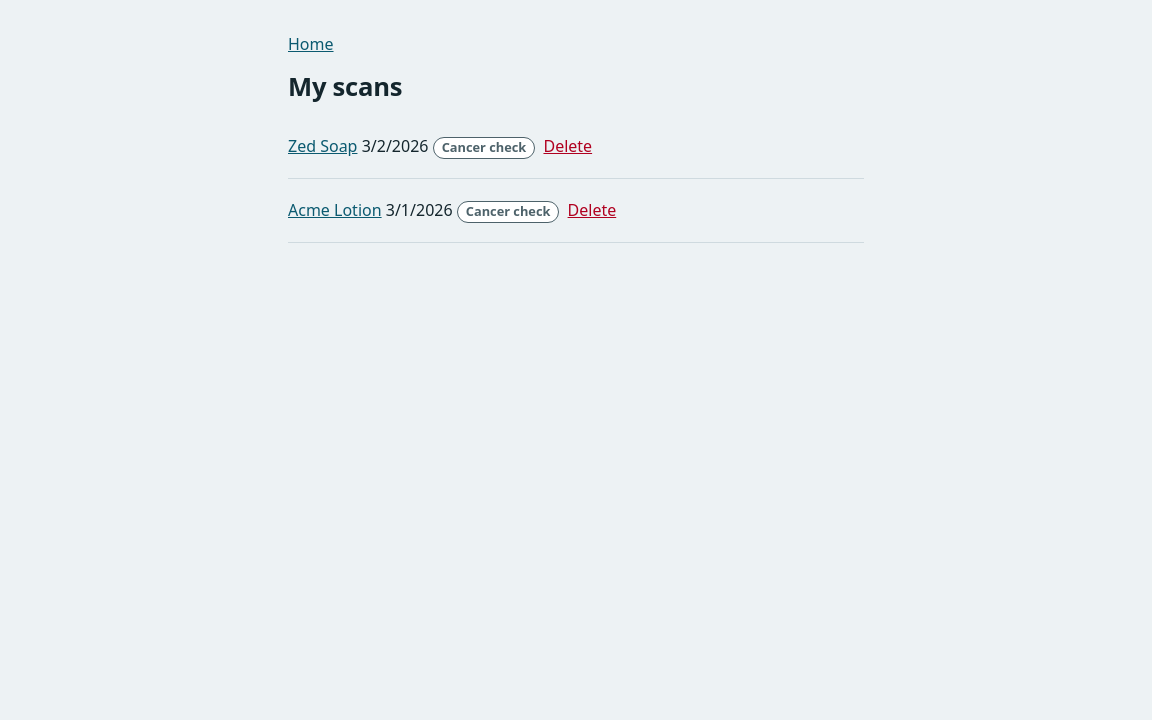
Test: my scans: delete asks first, then removes the product from the list and the phone
Click the button with aria-label "Delete Zed Soap" at x=568, y=146, box x1=540 y1=128 x2=596 y2=164
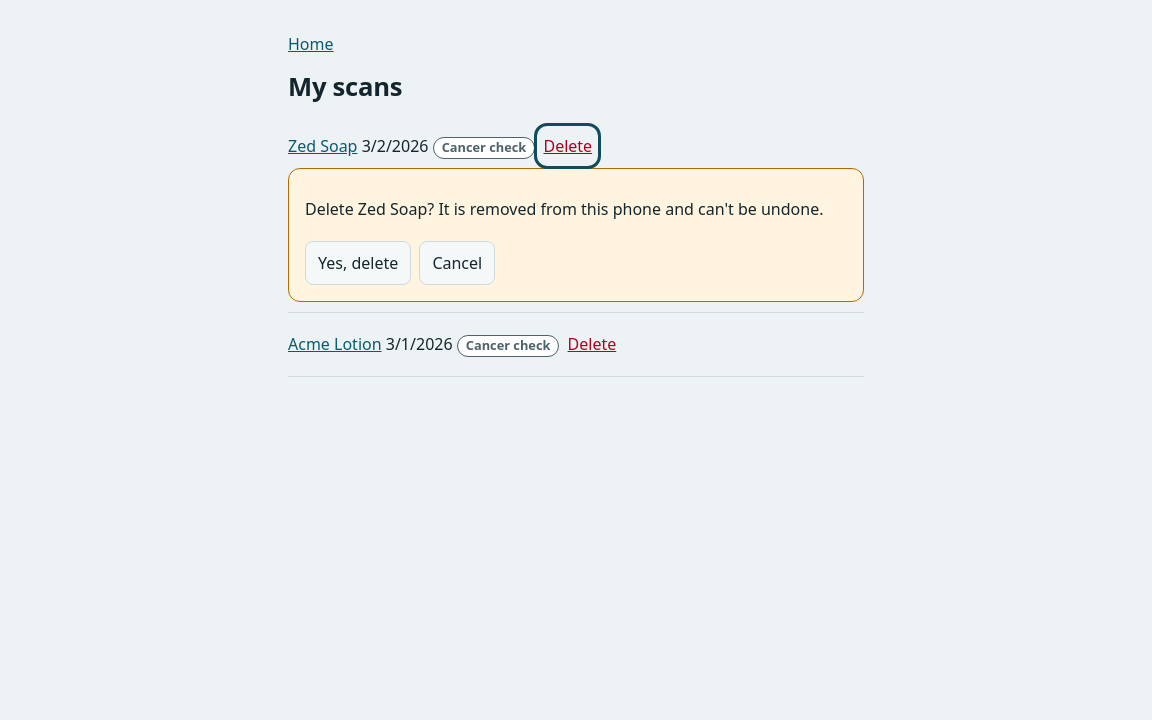
Expected: the dialog shows "Delete Zed Soap? It is removed from this phone and can't be undone.", x1=305 y1=198 x2=824 y2=220
Click the button "Cancel" at x=457, y=263, box x1=419 y1=241 x2=495 y2=285
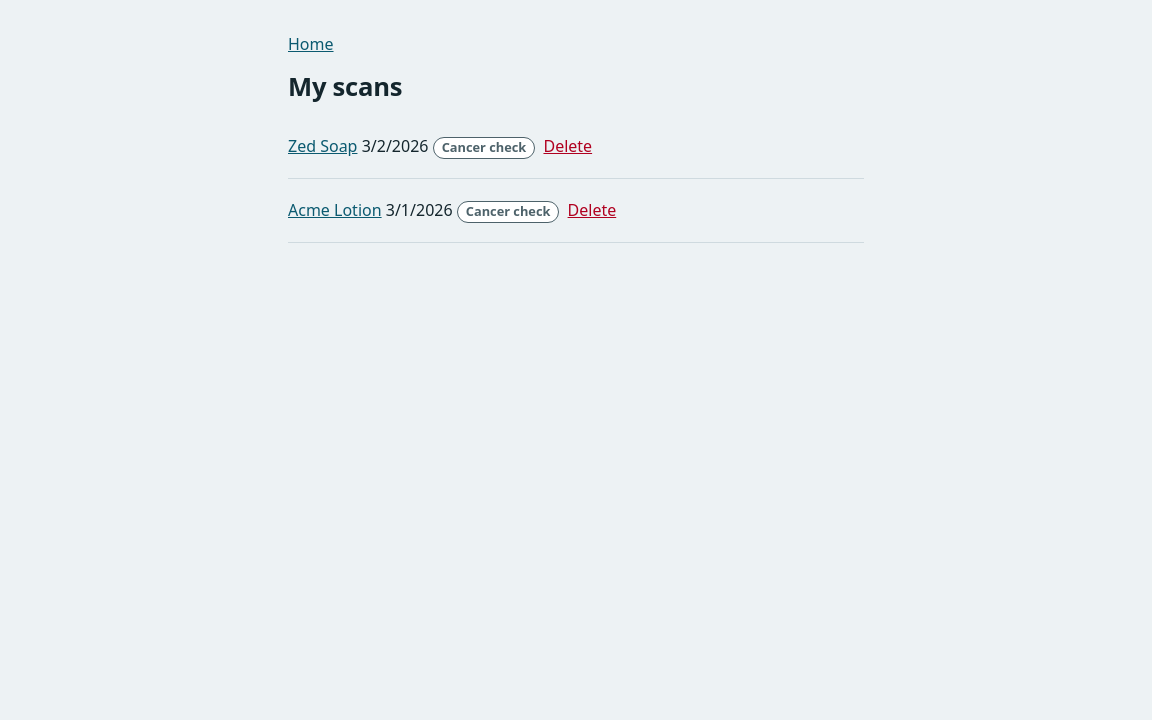
Click the button with aria-label "Delete Zed Soap" at x=568, y=146, box x1=540 y1=128 x2=596 y2=164
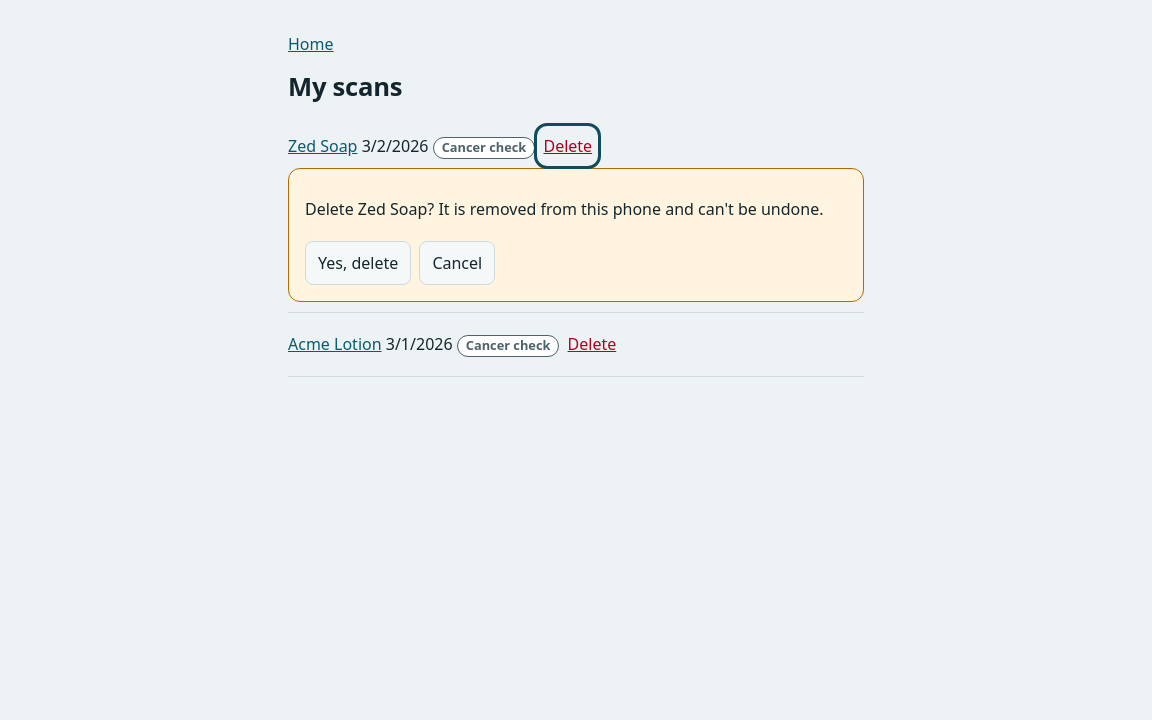
Click the button "Yes, delete" at x=358, y=263, box x1=305 y1=241 x2=411 y2=285
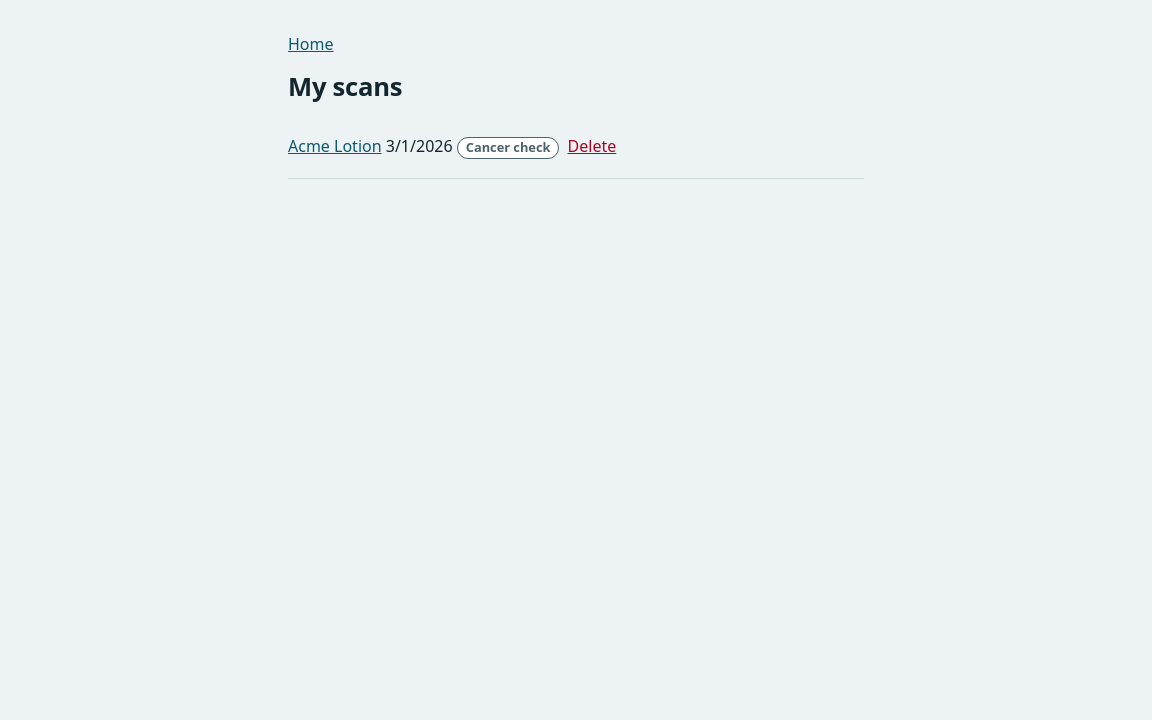
Expected: the link "Acme Lotion" is shown, x1=288 y1=135 x2=382 y2=157
Expected: the link "Zed Soap" is gone
